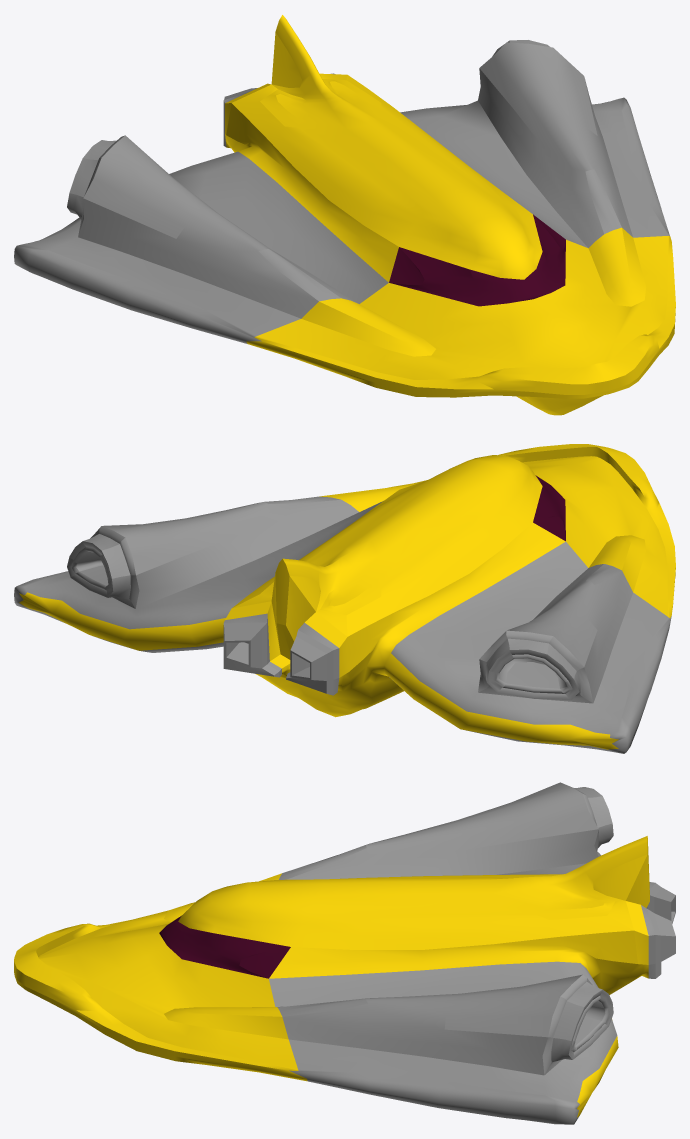
File: Buzz_Final.FBX
3 views of the same model, one above another, from view 1: azimuth 30°, elevation 25°; view 2: azimuth 150°, elevation 25°; view 3: azimuth 270°, elevation 25° (orthographic). The views are drawn at different scales.
Visible parts, largest first — view 1: BuzzFinal; view 2: BuzzFinal; view 3: BuzzFinal.
Part boxes in pixels (x1=…): BuzzFinal: x1=14, y1=15, x2=675, y2=415; BuzzFinal: x1=14, y1=444, x2=675, y2=753; BuzzFinal: x1=14, y1=782, x2=675, y2=1124.
Bounding box in the file's own units: 208 × 68.59 × 199.
